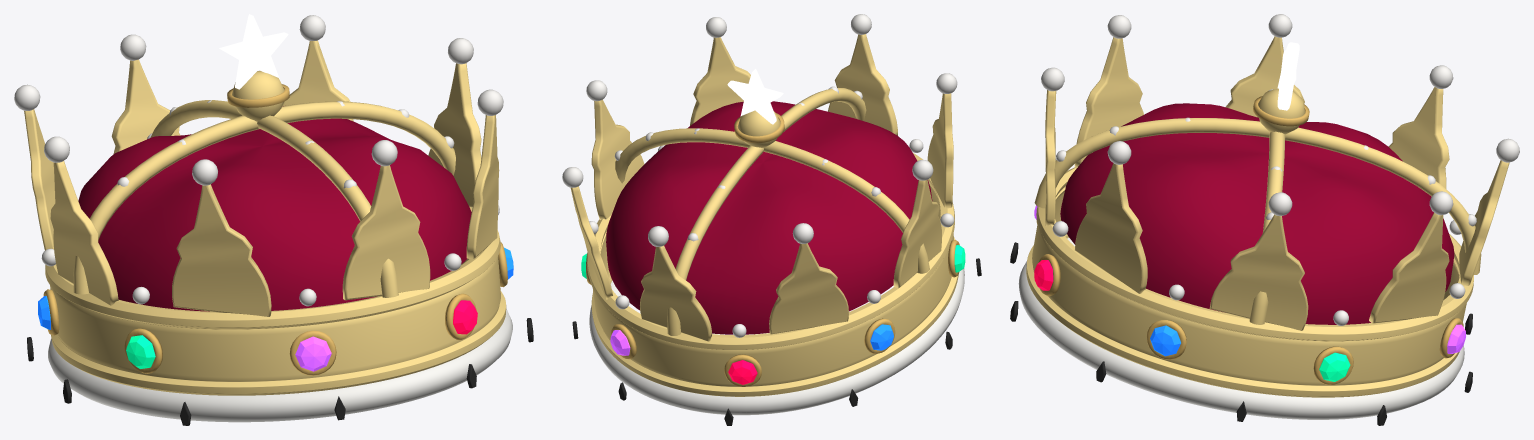
Rendered from crown.glb.
3 views of the same model, side by side, from view 1: azimuth 30°, elevation 25°; view 2: azimuth 150°, elevation 25°; view 3: azimuth 270°, elevation 25° (orthographic). The views are drawn at different scales.
Visible parts, largest first — view 1: crown_body, pulse_crown_star; view 2: crown_body, pulse_crown_star; view 3: crown_body, pulse_crown_star.
Part boxes in pixels (<box>): crown_body: <box>14,15,533,425</box>; pulse_crown_star: <box>219,14,288,89</box>; crown_body: <box>562,14,981,425</box>; pulse_crown_star: <box>727,69,783,124</box>; crown_body: <box>1010,14,1519,425</box>; pulse_crown_star: <box>1277,42,1299,110</box>.
Bounding box in the file's own units: 1.35 × 1.07 × 1.53.
